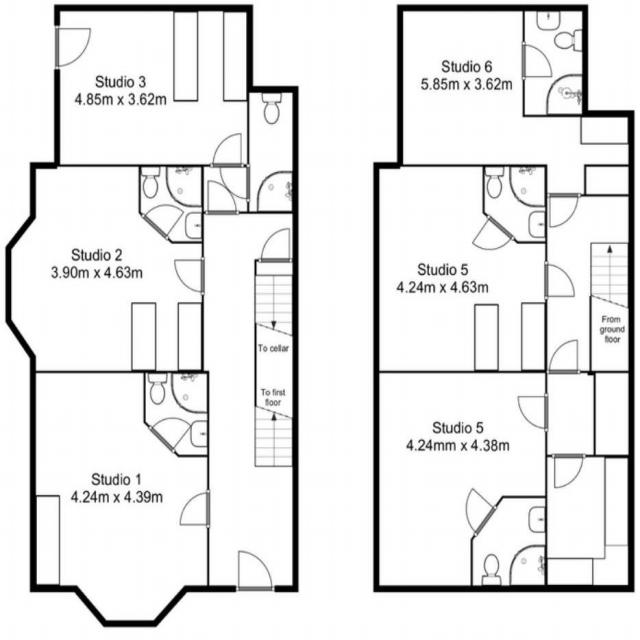DOOR: (145, 414, 195, 455), (468, 213, 517, 254), (463, 484, 498, 539), (140, 202, 187, 241), (53, 26, 93, 69), (237, 549, 274, 594), (550, 450, 589, 492), (515, 393, 551, 434), (548, 334, 582, 377), (523, 40, 555, 81), (217, 165, 252, 201), (172, 258, 206, 294), (178, 492, 212, 528), (206, 178, 239, 215), (211, 131, 243, 169), (260, 226, 291, 264)
ROOM: (393, 2, 635, 232), (27, 368, 211, 633), (372, 161, 579, 377), (3, 159, 206, 376), (371, 367, 550, 594), (51, 3, 255, 168), (147, 415, 194, 454)
